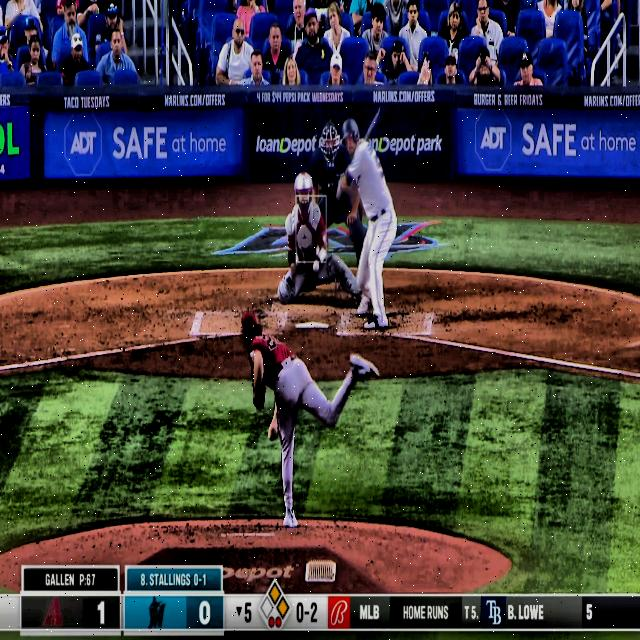baseball: (312, 259, 320, 274)
